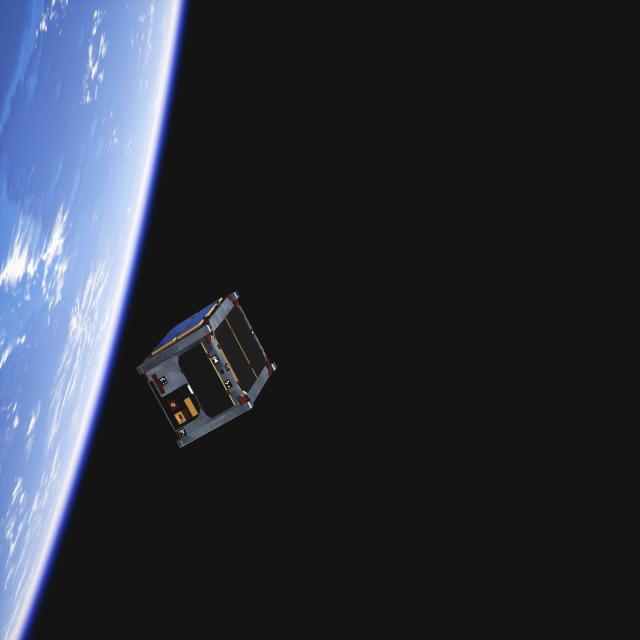medium_debris: (135, 288, 278, 452)
